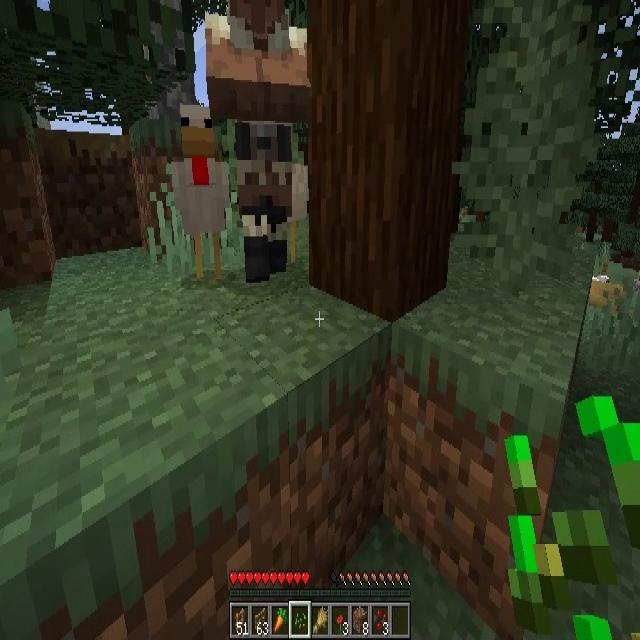duck: (206, 0, 314, 283), (173, 104, 229, 282)
